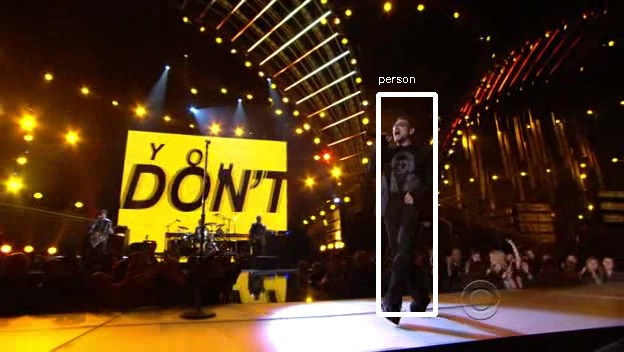person: (370, 113, 437, 222), (367, 113, 434, 222), (373, 113, 440, 222), (370, 110, 437, 219), (370, 116, 437, 225)
target_negative: (116, 30, 412, 255), (114, 184, 590, 265), (246, 16, 281, 259), (70, 145, 211, 201), (453, 65, 463, 109)
